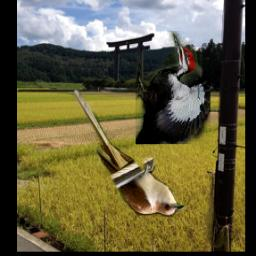Cuckoo: (72, 88, 185, 218)
Woodpecker: (136, 32, 211, 145)
